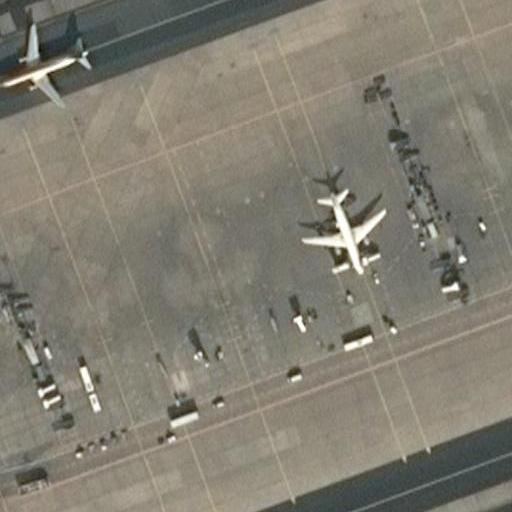Aircraft: (0, 17, 104, 114), (289, 177, 387, 274)
